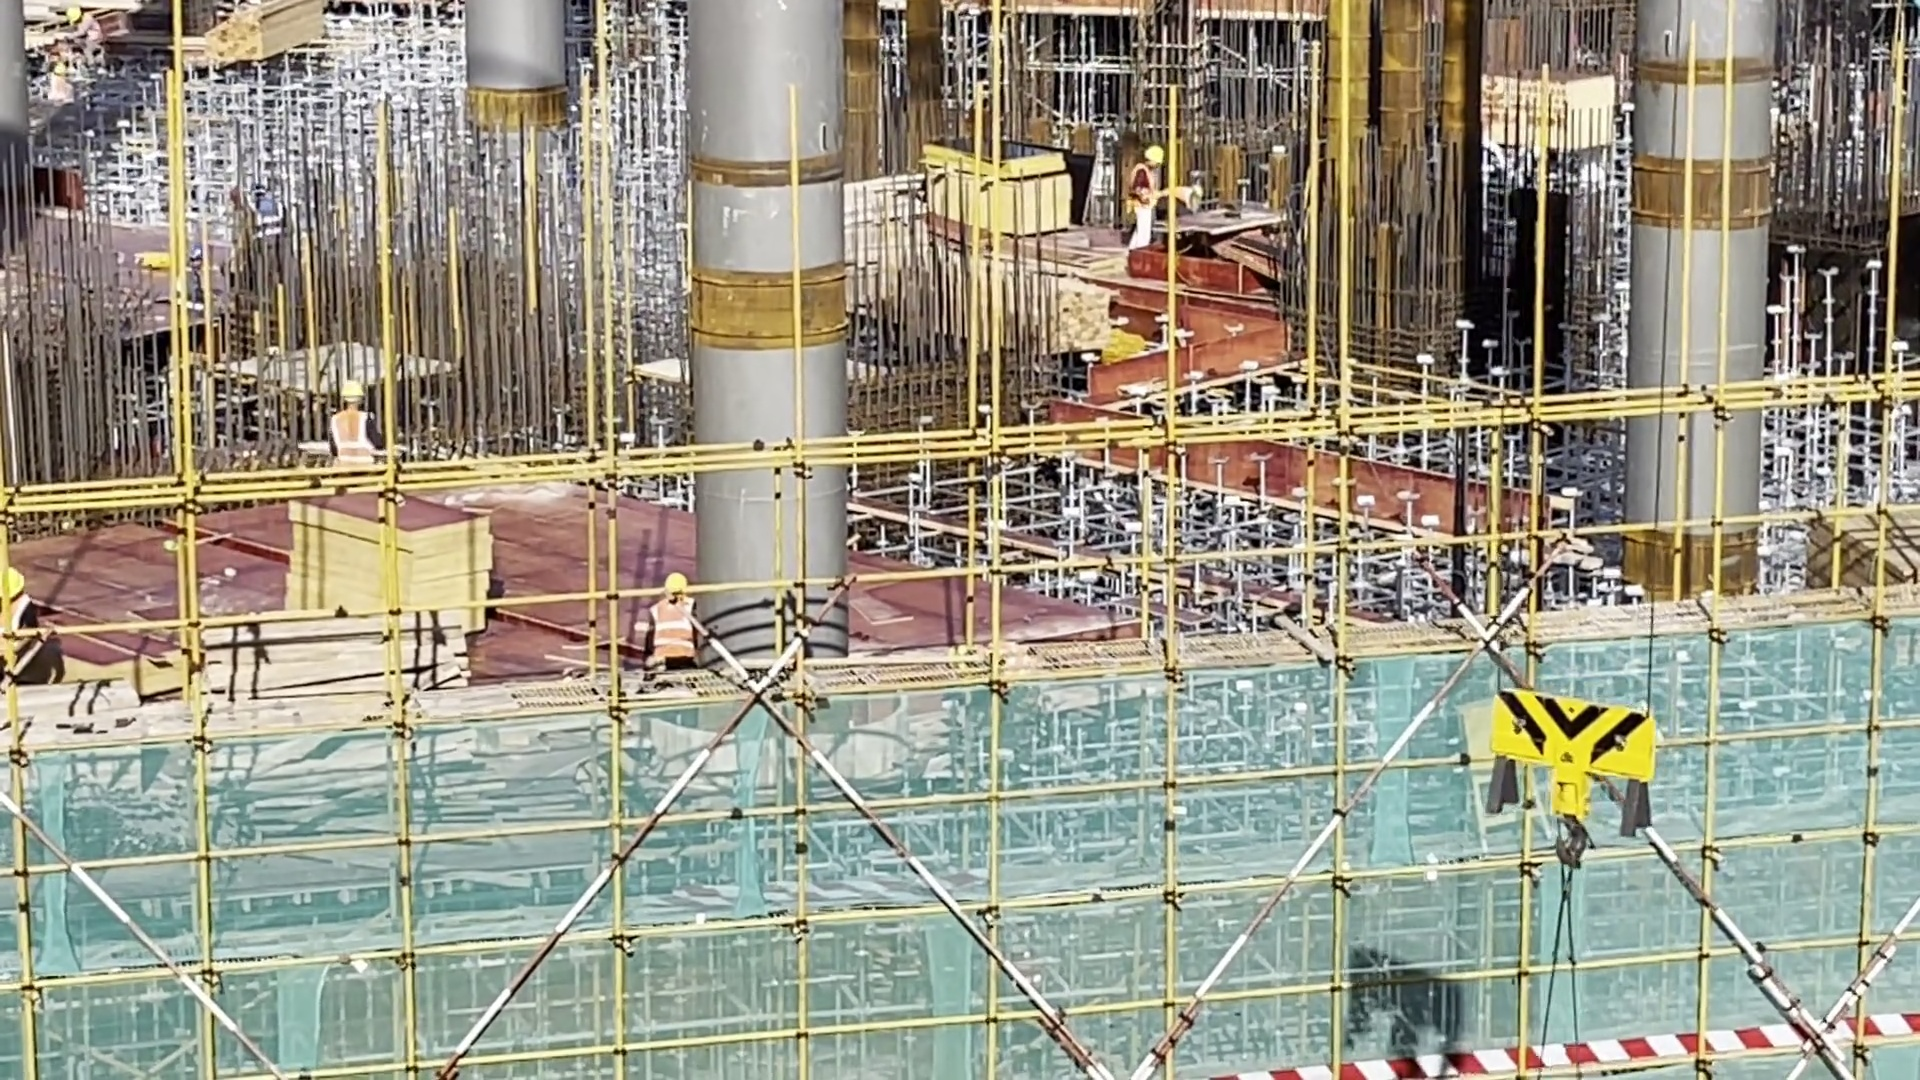board: (288, 488, 502, 648), (905, 133, 1088, 251), (1795, 506, 1920, 595)
ebox: (1456, 691, 1562, 864)
helmet: (661, 569, 689, 602), (342, 379, 367, 410), (1145, 142, 1164, 174)
hook: (1484, 667, 1663, 892)
person: (319, 380, 395, 502), (641, 561, 704, 672), (1130, 140, 1172, 255), (1173, 172, 1212, 226)
vest: (653, 597, 702, 674), (331, 409, 384, 478), (1133, 158, 1155, 213)
wood: (180, 605, 465, 757), (213, 1, 316, 77)
